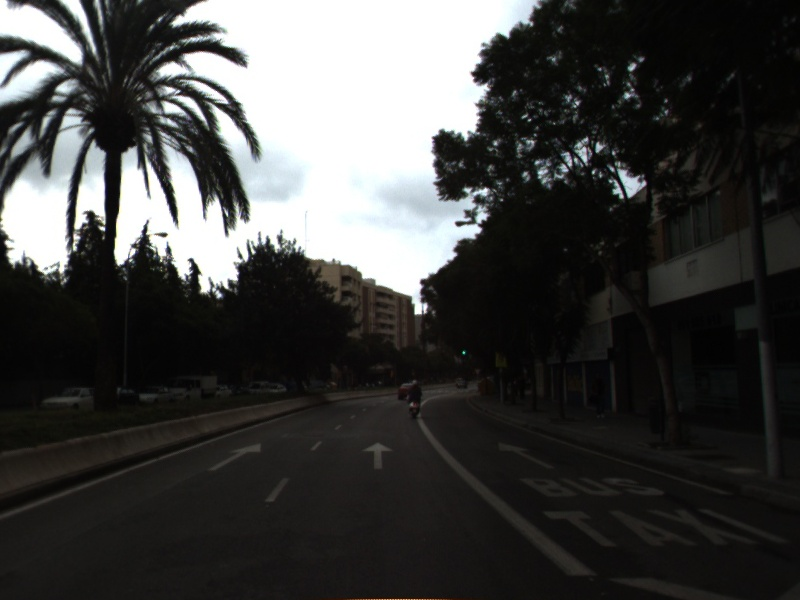STRAIGHT: (205, 440, 263, 473), (496, 440, 556, 470), (359, 440, 395, 471)
